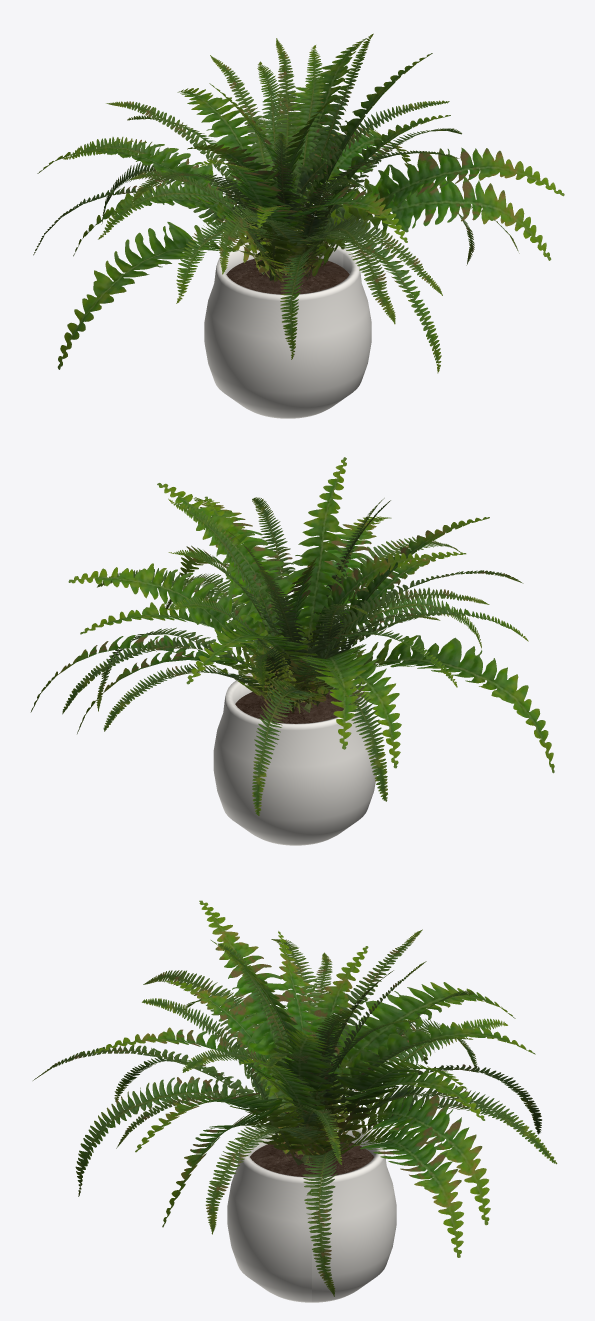
File: helecho_55.glb
3 views of the same model, one above another, from view 1: azimuth 30°, elevation 25°; view 2: azimuth 150°, elevation 25°; view 3: azimuth 270°, elevation 25° (orthographic). The views are drawn at different scales.
Parts seen in each view (by area): view 1: helecho_55; view 2: helecho_55; view 3: helecho_55.
Part boxes in pixels (left/top/right/bottom): helecho_55: left=33, top=33, right=564, bottom=418; helecho_55: left=30, top=457, right=554, bottom=845; helecho_55: left=33, top=900, right=557, bottom=1302.
Bounding box in the file's own units: 0.8 × 0.55 × 0.8.
3 materials, 2 textured.
